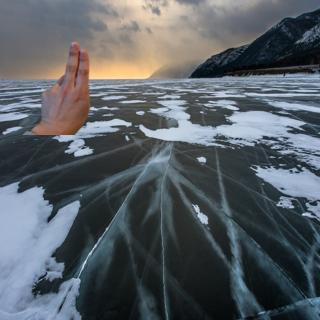DHAVE: (35, 38, 94, 131)
